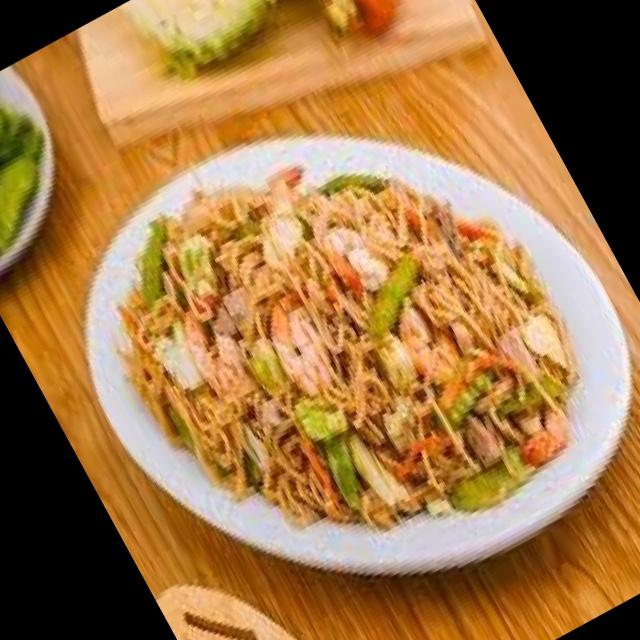pancit bihon: (141, 169, 569, 520)
